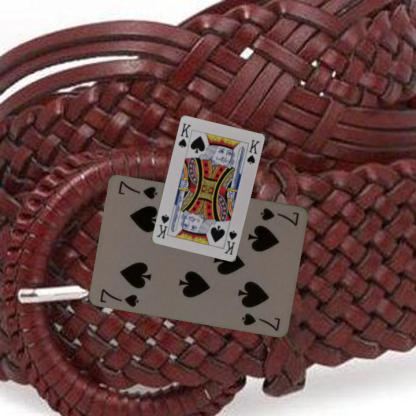7s: (98, 285, 141, 308), (258, 205, 301, 227)
Ks: (222, 228, 238, 257), (176, 121, 192, 150)
